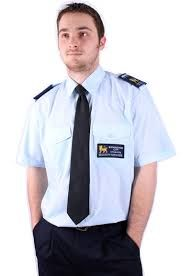uniform: (25, 74, 144, 258)
